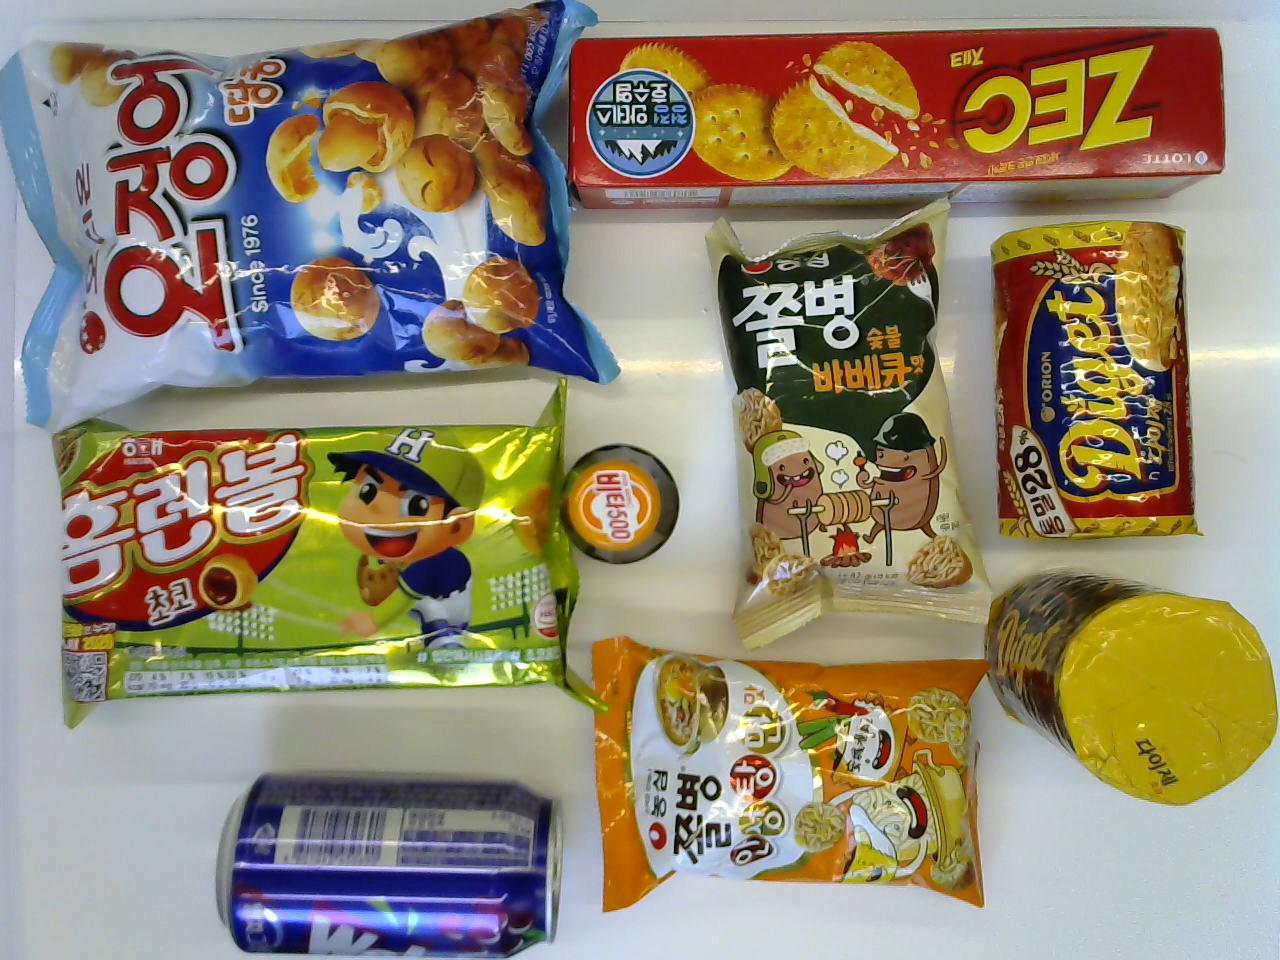diget_choco: (982, 556, 1279, 813)
diget_ori: (987, 213, 1203, 550)
homerunball: (49, 375, 586, 730)
jjolbyung_noodle: (584, 624, 987, 917)
jjolbyung_ori: (689, 199, 1000, 650)
squid_peanut: (0, 0, 622, 429)
vita500: (563, 442, 680, 563)
welchs: (210, 765, 563, 960)
zec: (561, 19, 1224, 205)
